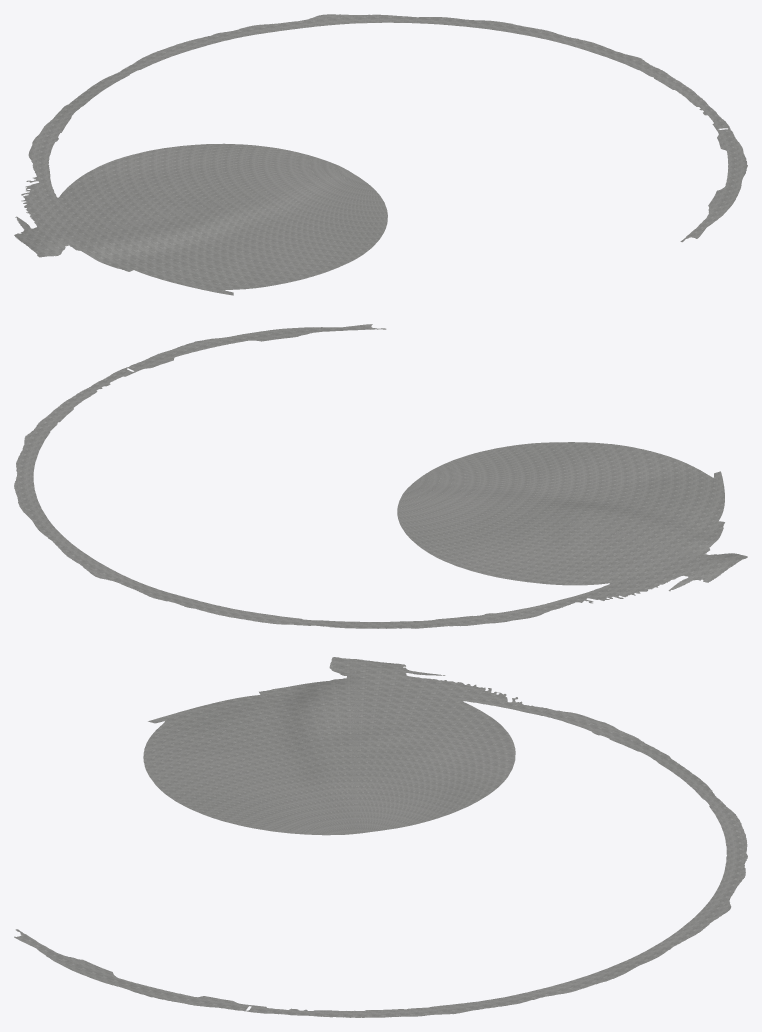
File: plaza_01.glb
The picture shows the model from 3 angles, top to bottom: view 1: azimuth 30°, elevation 25°; view 2: azimuth 150°, elevation 25°; view 3: azimuth 270°, elevation 25°; orthographic projection. The views are drawn at different scales.
Visible parts, largest first — view 1: plaza_01.surface; view 2: plaza_01.surface; view 3: plaza_01.surface.
Part boxes in pixels (<box>): plaza_01.surface: <box>14,14,747,295</box>; plaza_01.surface: <box>14,324,747,628</box>; plaza_01.surface: <box>14,657,747,1017</box>.
Size of the model in its own units: 225 by 1.88 by 195.
1 material, 1 textured.
